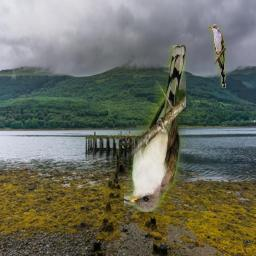Cuckoo: (124, 45, 186, 212), (209, 24, 226, 88)
